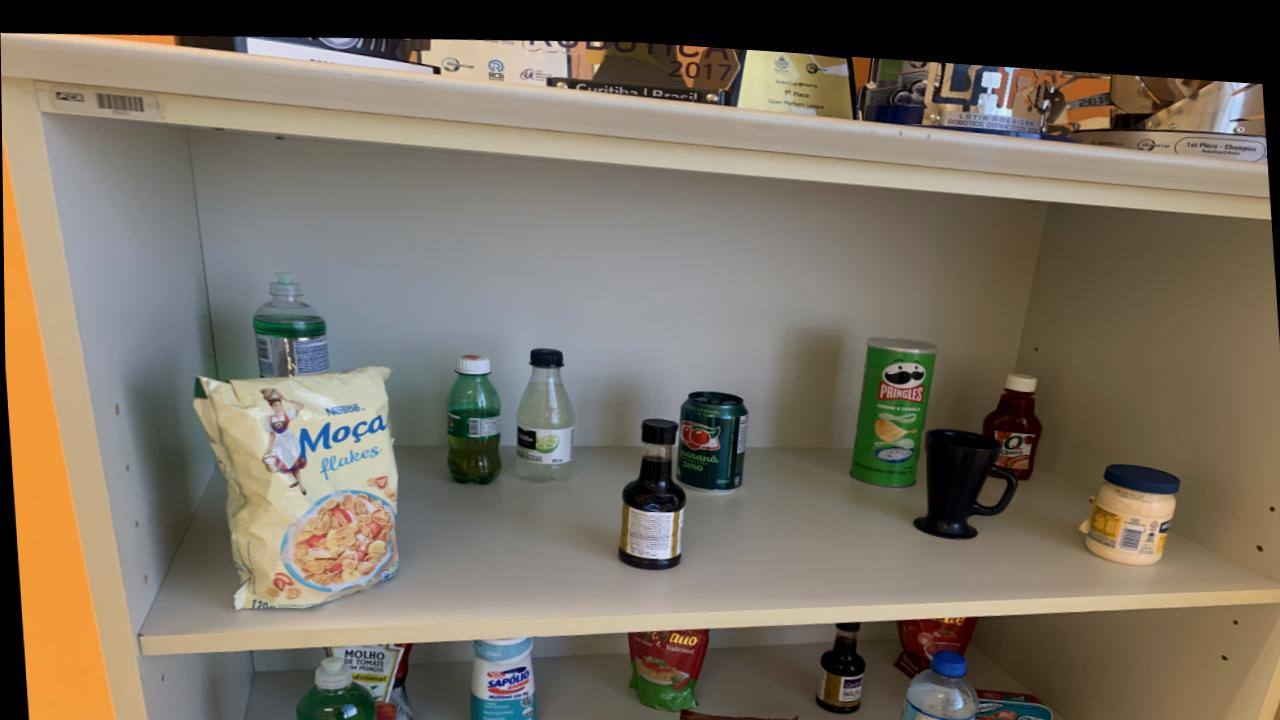Cleaner-Cleanup_Items: (467, 630, 534, 720)
Coffee-Pantry_Items: (677, 700, 794, 720)
Detergent-Cleanup_Items: (250, 268, 328, 373), (295, 653, 376, 720)
English_Sauce-Pantry_Items: (616, 410, 683, 561), (813, 611, 863, 701)
Flakes-Snacks: (193, 362, 398, 606)
Guarana-Drinks: (444, 348, 500, 478)
Guarana_Can-Drinks: (674, 380, 747, 484)
Ketchup-Pantry_Items: (980, 360, 1040, 465)
Mayonnaise-Pantry_Items: (1079, 448, 1178, 549)
Pringles-Snacks: (848, 324, 936, 474)
Soda-Drinks: (514, 341, 573, 476)
Tomato_Sauce-Pantry_Items: (323, 638, 411, 720), (627, 619, 707, 701), (892, 604, 975, 664)
Tuna_Can-Pantry_Items: (969, 675, 1051, 720)
Water_Bottle-Drinks: (897, 638, 976, 720)
